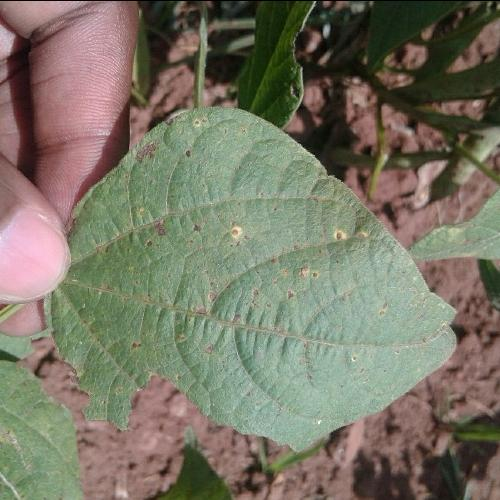mozaik: (72, 380, 332, 491)
